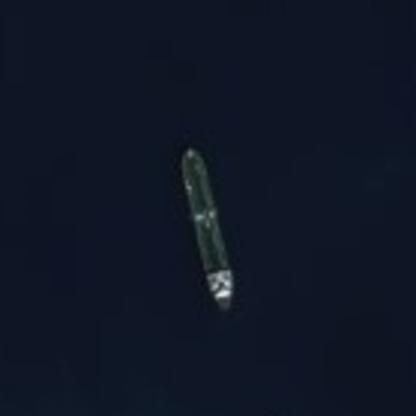ship: (170, 141, 247, 320)
